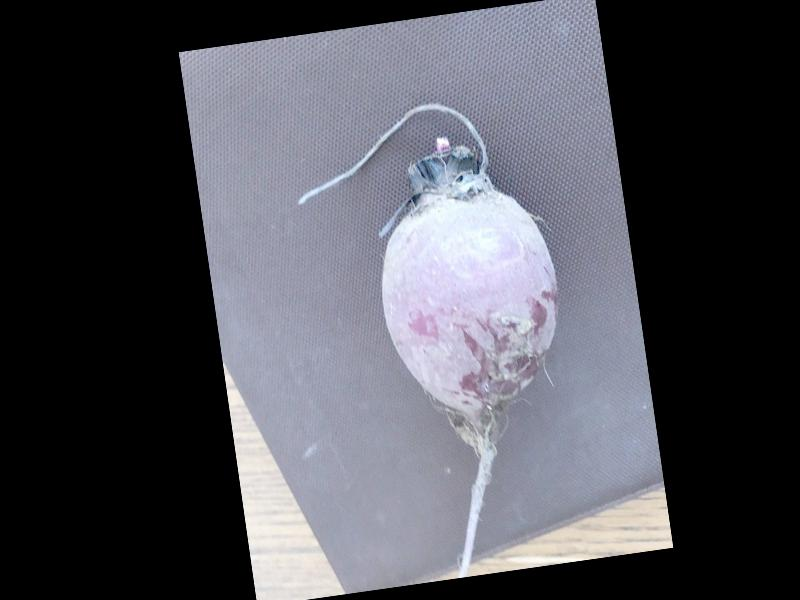Beet: (286, 89, 597, 593)
